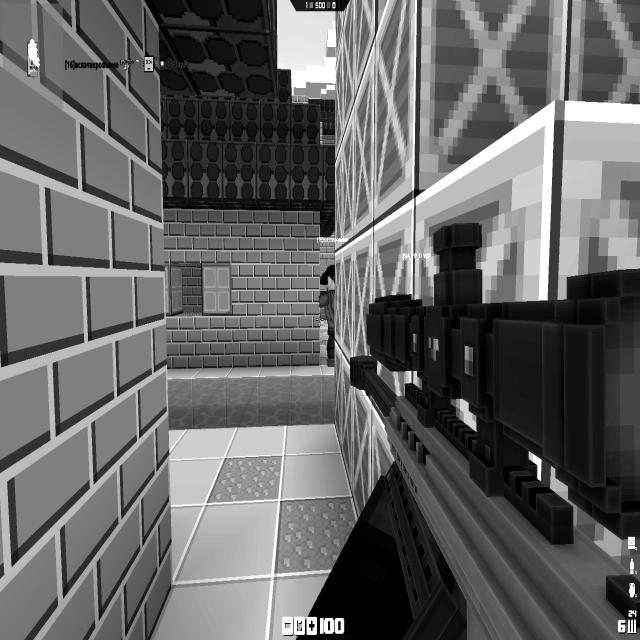Head: (320, 266, 336, 289)
Player: (318, 264, 335, 366)
